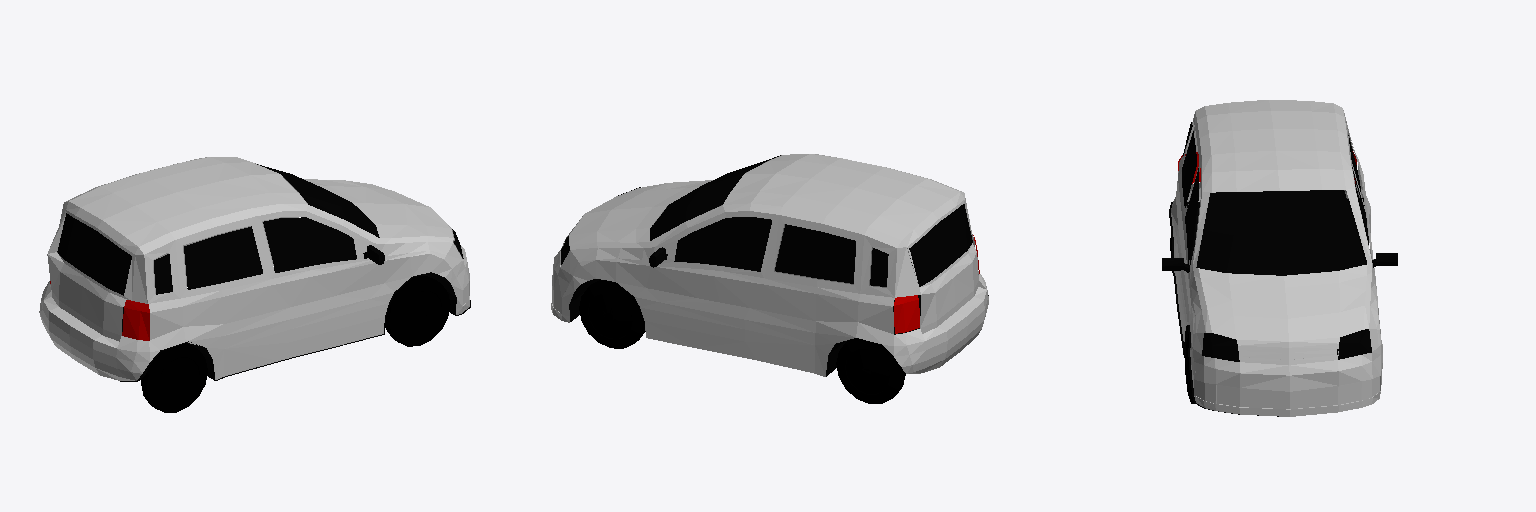
The model's file is Auto.obj.
The picture shows the model from 3 angles: view 1: azimuth 30°, elevation 25°; view 2: azimuth 150°, elevation 25°; view 3: azimuth 270°, elevation 25°; orthographic projection.
Parts seen in each view (by area): view 1: Auto; view 2: Auto; view 3: Auto.
Part boxes in pixels (x1,y1,x2,y2): Auto: (39,157,470,412); Auto: (551,154,988,403); Auto: (1162,100,1397,416).
Size of the model in its own units: 3.11 by 1.32 by 1.64.